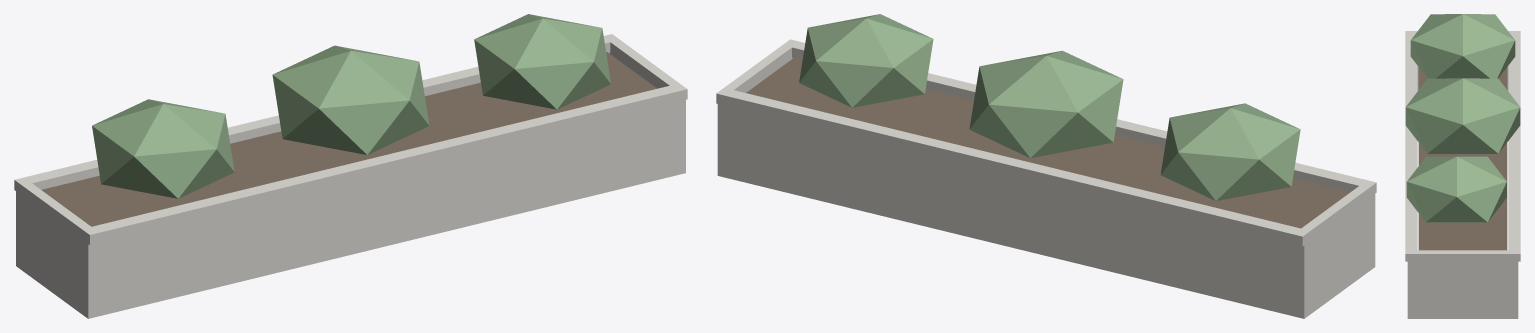
File: planter.glb
3 views of the same model, side by side, from view 1: azimuth 30°, elevation 25°; view 2: azimuth 150°, elevation 25°; view 3: azimuth 270°, elevation 25° (orthographic). The views are drawn at different scales.
Parts seen in each view (by area): view 1: planter; view 2: planter; view 3: planter.
Boxes of the visible parts, x1,y1,x2,y2 form: planter: [14, 14, 687, 318]; planter: [716, 14, 1376, 318]; planter: [1405, 14, 1520, 318].
Bounding box in the file's own units: 4.3 × 1.16 × 0.94.
